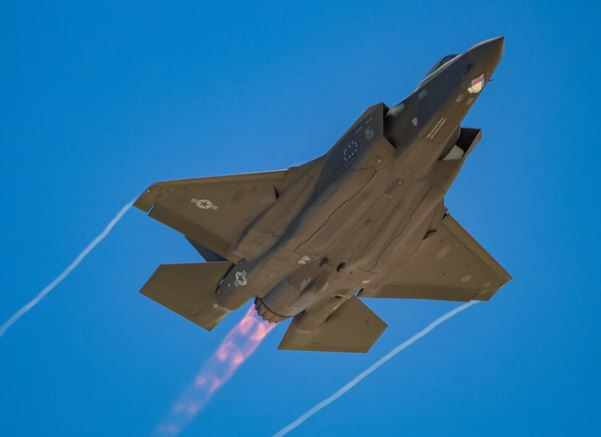F35: (129, 33, 514, 355)
